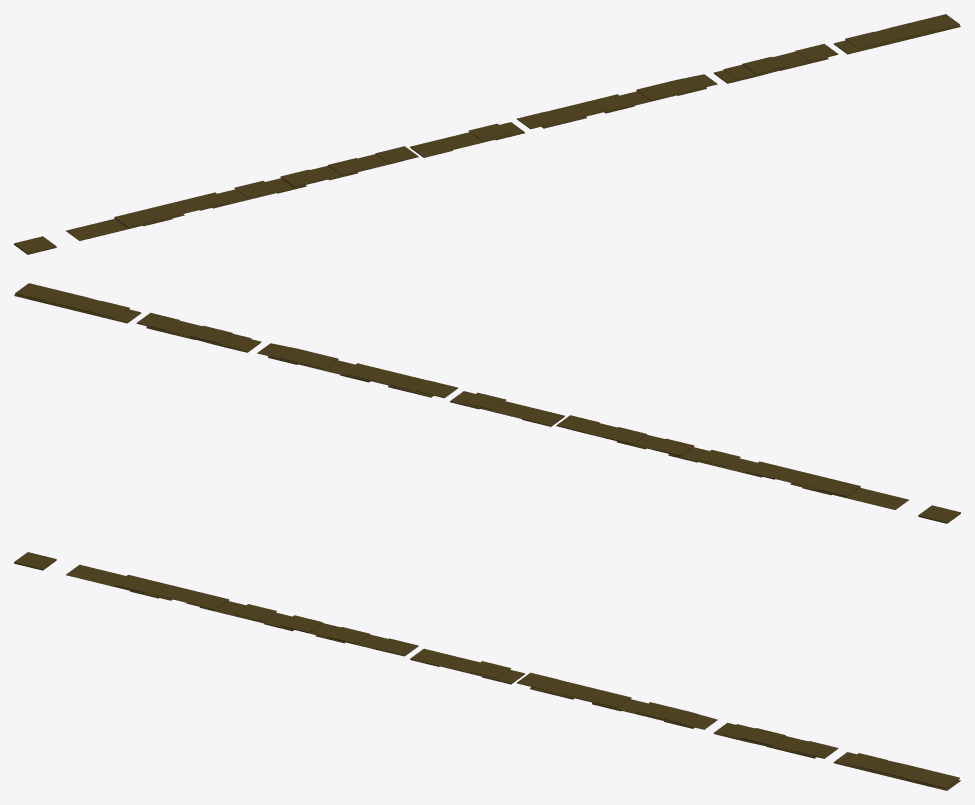
File: Mahane_Yarden__Textv_v02.FBX
3 views of the same model, one above another, from view 1: azimuth 30°, elevation 25°; view 2: azimuth 150°, elevation 25°; view 3: azimuth 330°, elevation 25° (orthographic).
Visible parts, largest first — view 1: Text010; view 2: Text010; view 3: Text010.
Part boxes in pixels (x1,y1,x2,y2): Text010: (14, 14, 960, 254); Text010: (14, 283, 960, 523); Text010: (14, 552, 960, 790).
Size of the model in its own units: 367 by 1.31 by 9.43.
